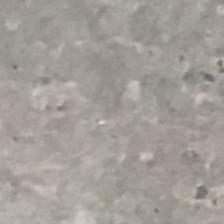Non_Crack: (1, 10, 224, 207)
